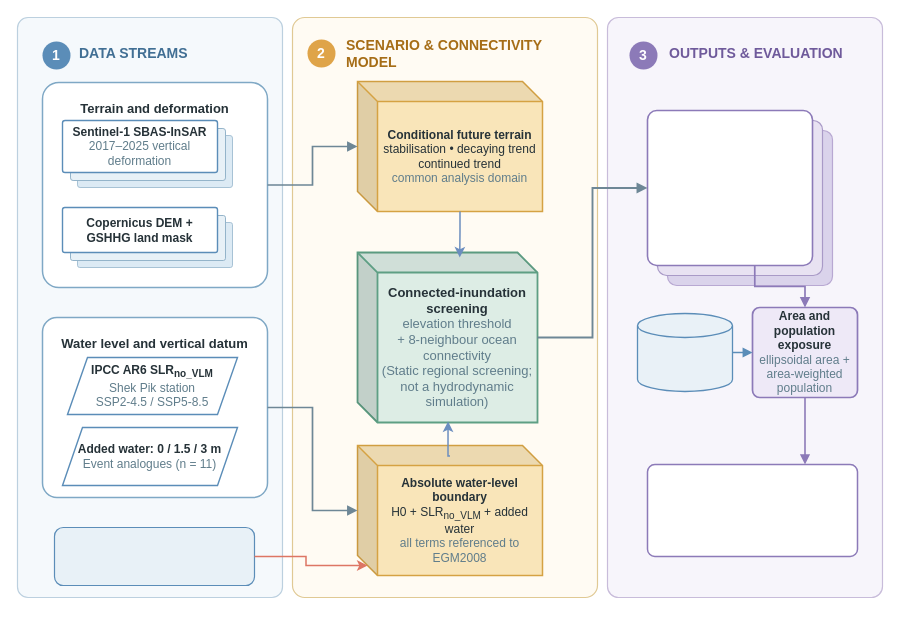
The diagram is 901 pixels wide and 624 high, and some of its shapes have lost their labels. The centre of each missing label's shape, as x and y in pixels:
Paired connected masks ■ Stabilisation ■ Decaying trend ■ Continued trend: (x=729, y=187)
Sensitivity and data priorities datum • DEM • connectivity priority recurrence: (x=752, y=510)
Shek Pik datum chain H0 = 0.927 ± 0.117 m EGM2008: (x=154, y=556)
SSP2 / SSP5 population 1 km grid: (x=684, y=352)
